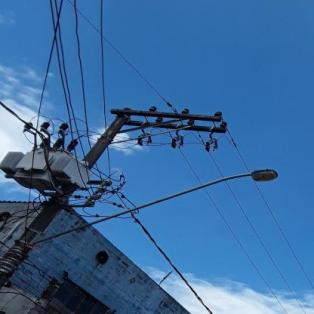Poste: (0, 105, 137, 288)
